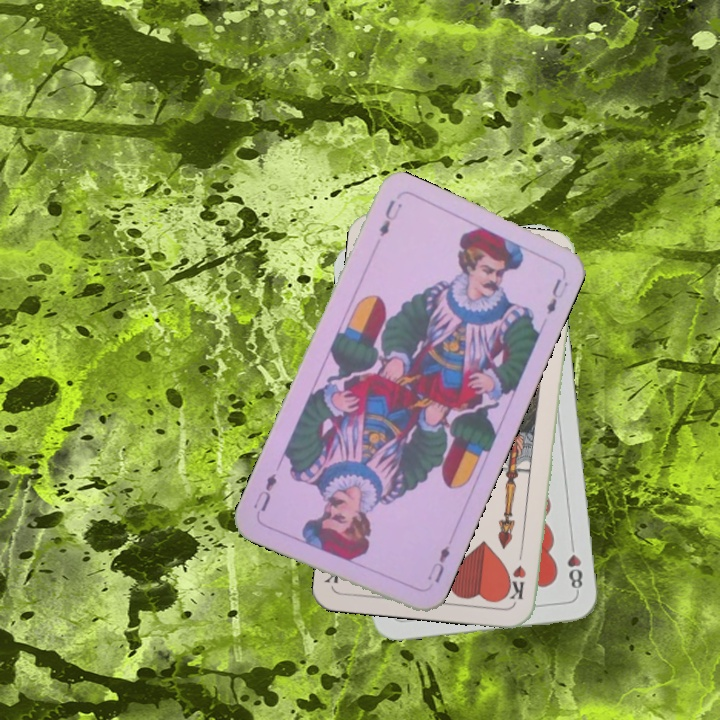EU: (423, 541, 453, 586), (375, 195, 404, 240)
H8: (563, 536, 586, 596)
HK: (505, 544, 529, 602)
